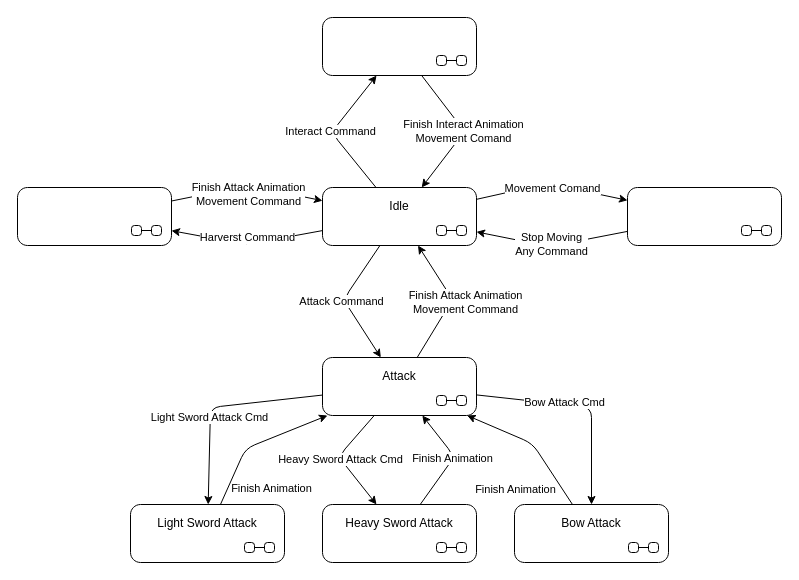
The diagram is 799 pixels wide and 580 high, and some of its shapes have lost their labels. Here are the shapes that lost their labels. From the top down, the box of each, then its label:
(322, 16, 476, 76): Interact
(16, 186, 172, 246): Harverst
(626, 186, 782, 246): Walking
